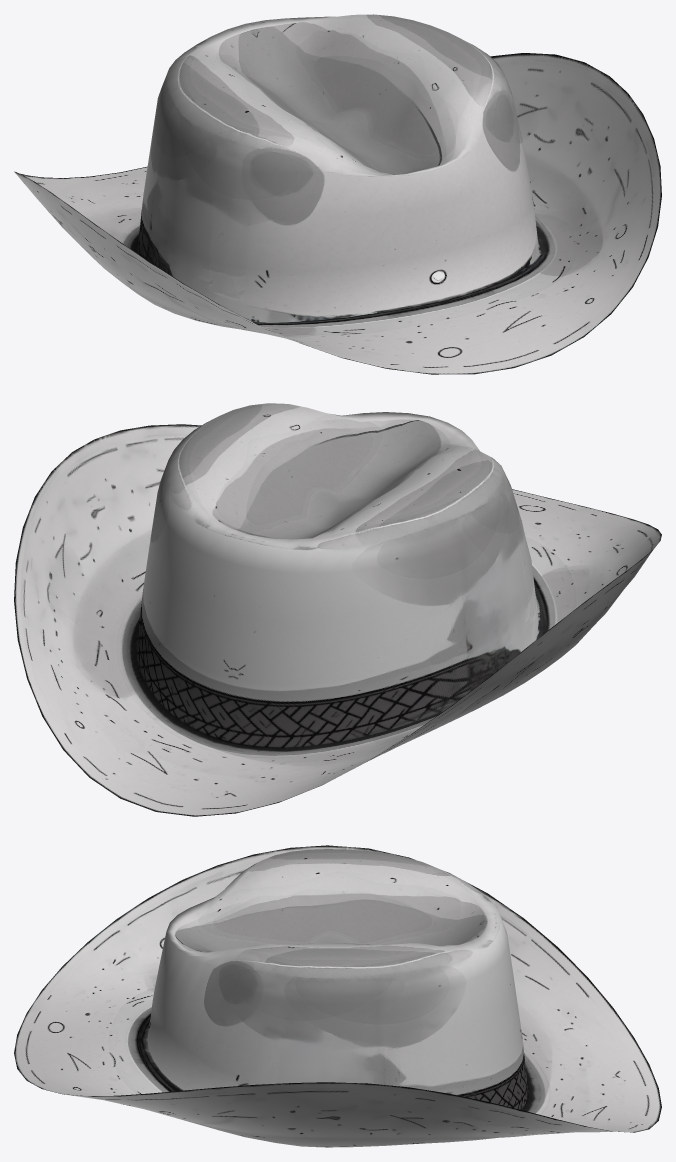
File: cowboyHat.glb
3 renders of one model, top to bottom at view 1: azimuth 30°, elevation 25°; view 2: azimuth 150°, elevation 25°; view 3: azimuth 270°, elevation 25°, orthographic. The views are drawn at different scales.
Parts seen in each view (by area): view 1: CowboyHat; view 2: CowboyHat; view 3: CowboyHat.
Part boxes in pixels (box(x1,y1,x2,y2)): CowboyHat: box(14, 14, 661, 374); CowboyHat: box(14, 403, 661, 816); CowboyHat: box(14, 845, 661, 1147).
Bounding box in the file's own units: 13.93 × 5.56 × 16.1.
Materials: 1 (1 with a texture image).
